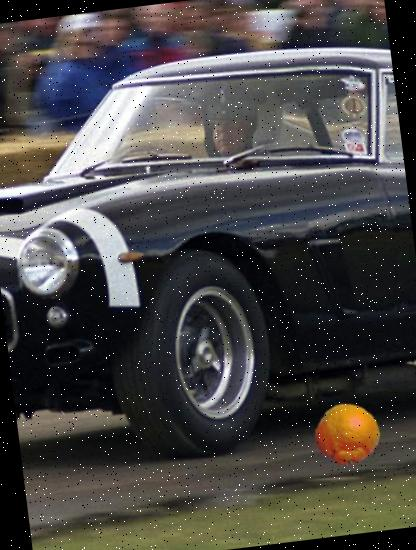Mandarine: (311, 400, 383, 472)
